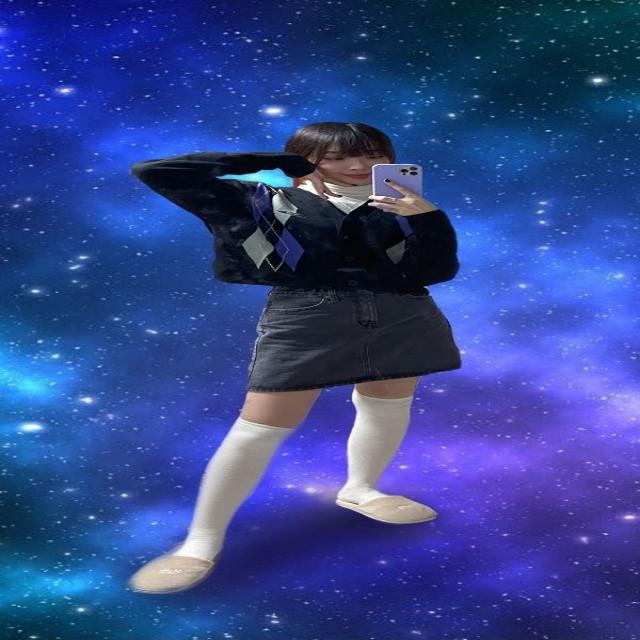cardigan: (130, 148, 465, 294)
skirt: (237, 280, 465, 390)
